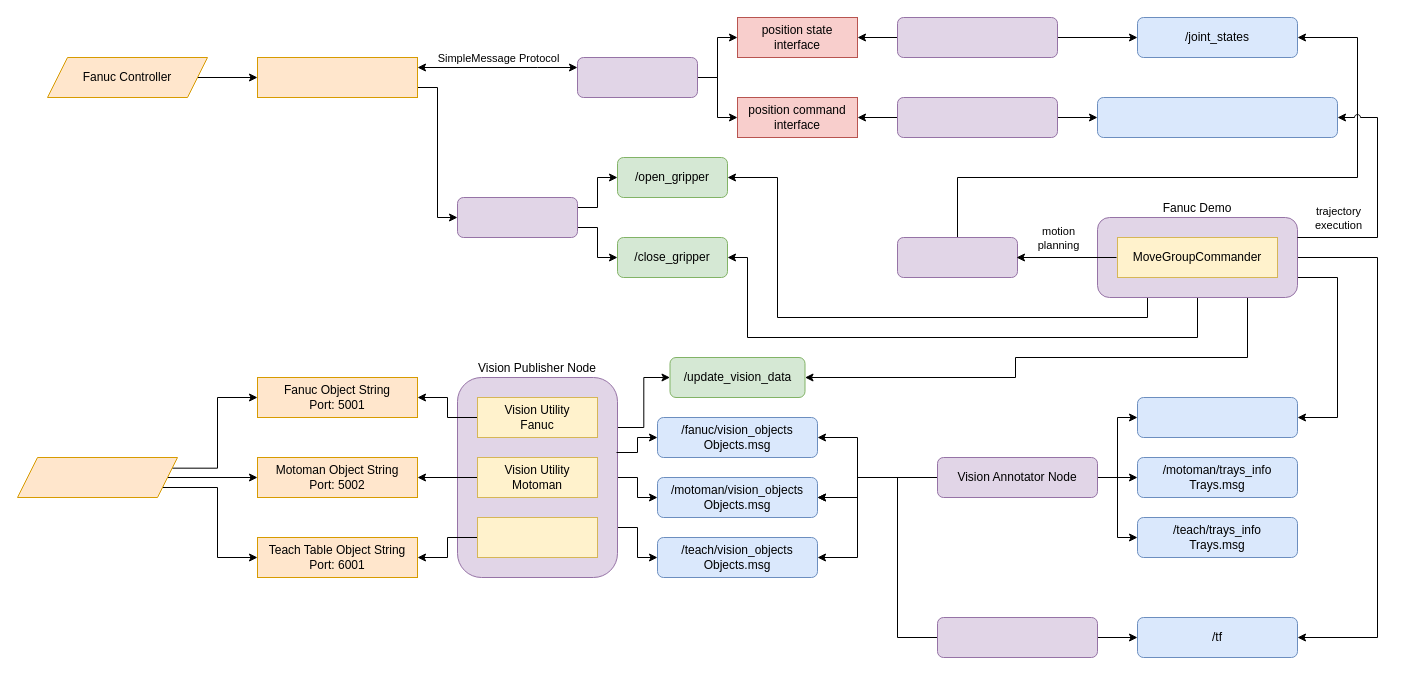
Image size: 1403x675. Some labels were removed from this diagram. The centre of each missing label's shape, as x and y in pixels:
"/fanuc/trays_info Trays.msg" belongs at point (1217, 417).
"/forward_position_controller/commands" belongs at point (1217, 117).
"Fanuc Forward Position Controller" belongs at point (977, 117).
"Fanuc Gripper Control" belongs at point (517, 217).
"Fanuc Hardware Interface" belongs at point (637, 77).
"Fanuc State Broadcaster Controller" belongs at point (977, 37).
"move_group" belongs at point (957, 257).
"ROS Teach Pendant Programs" belongs at point (337, 77).
"Vision Broadcaster Node" belongs at point (1017, 637).
"Vision System" belongs at point (97, 477).
"Vision Utility Teach" belongs at point (537, 537).
